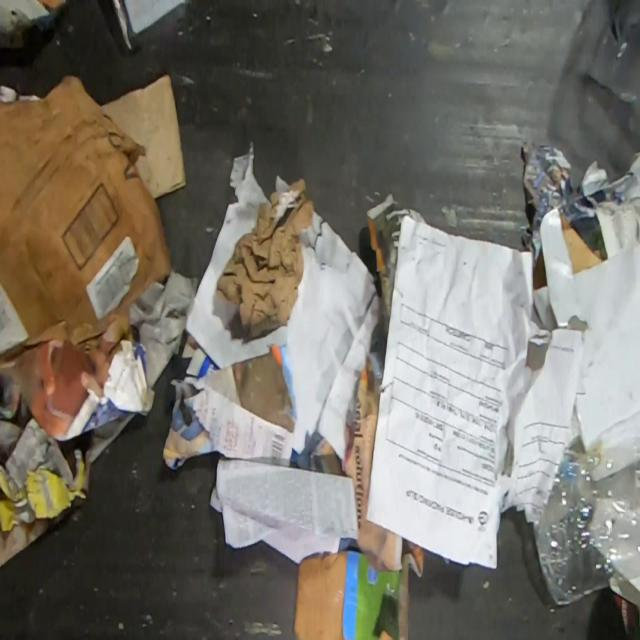cardboard: (0, 305, 156, 442), (101, 75, 186, 199), (293, 550, 410, 639)
rigid_plastic: (532, 408, 640, 607)
soft_plastic: (564, 0, 640, 104), (124, 0, 186, 35)
